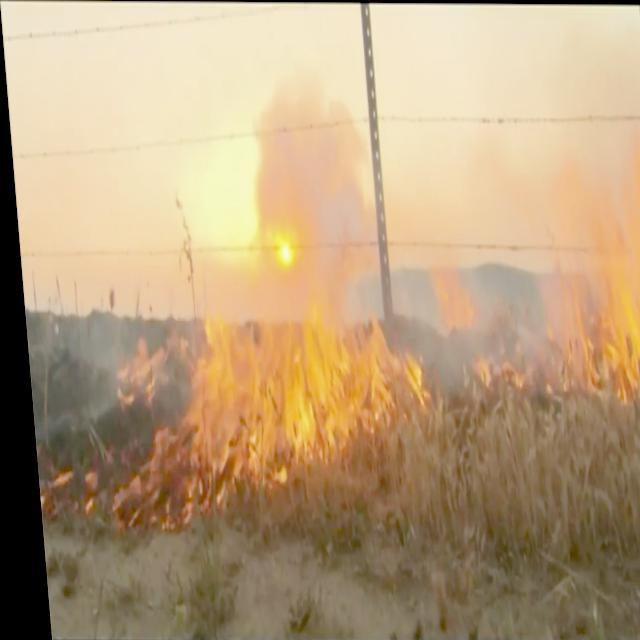Fire: (105, 261, 402, 512), (521, 137, 639, 390), (429, 263, 470, 327), (466, 344, 524, 389)
